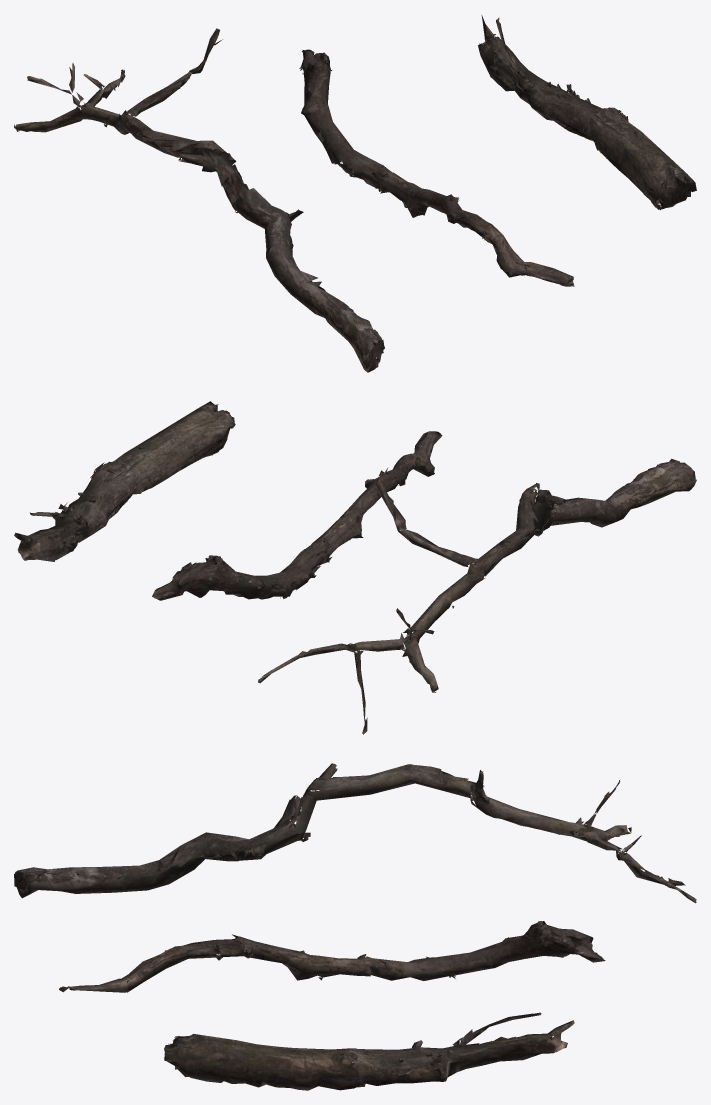
Rendered from kf_dry_branches.glb.
3 renders of one model, top to bottom at view 1: azimuth 30°, elevation 25°; view 2: azimuth 150°, elevation 25°; view 3: azimuth 270°, elevation 25°, orthographic. The views are drawn at different scales.
Visible parts, largest first — view 1: dry_branches_medium_01_a, dry_branches_medium_01_c, dry_branches_medium_01_b; view 2: dry_branches_medium_01_a, dry_branches_medium_01_c, dry_branches_medium_01_b; view 3: dry_branches_medium_01_a, dry_branches_medium_01_c, dry_branches_medium_01_b.
Boxes of the visible parts, <box> form: dry_branches_medium_01_a: <box>14,28,384,372</box>; dry_branches_medium_01_c: <box>478,15,696,210</box>; dry_branches_medium_01_b: <box>299,49,574,286</box>; dry_branches_medium_01_a: <box>258,458,696,734</box>; dry_branches_medium_01_c: <box>14,401,235,561</box>; dry_branches_medium_01_b: <box>152,431,442,600</box>; dry_branches_medium_01_a: <box>14,763,696,903</box>; dry_branches_medium_01_c: <box>164,1012,574,1090</box>; dry_branches_medium_01_b: <box>59,921,605,992</box>.
Size of the model in its own units: 1.06 by 0.3399 by 1.3.
1 material, 1 textured.
